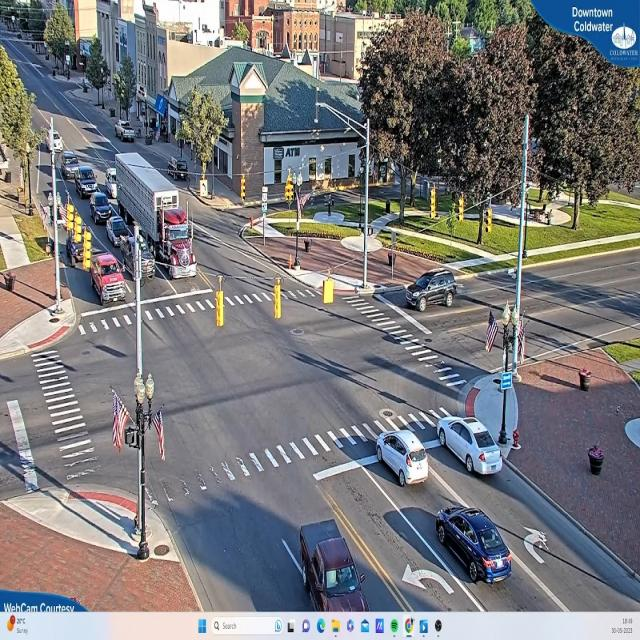car: (435, 506, 513, 585), (297, 519, 365, 609), (437, 414, 505, 477), (377, 428, 432, 487), (408, 271, 459, 312), (120, 233, 160, 285), (90, 252, 125, 311), (90, 194, 113, 222), (77, 164, 97, 194), (116, 123, 138, 143)
truck: (162, 200, 197, 278)
